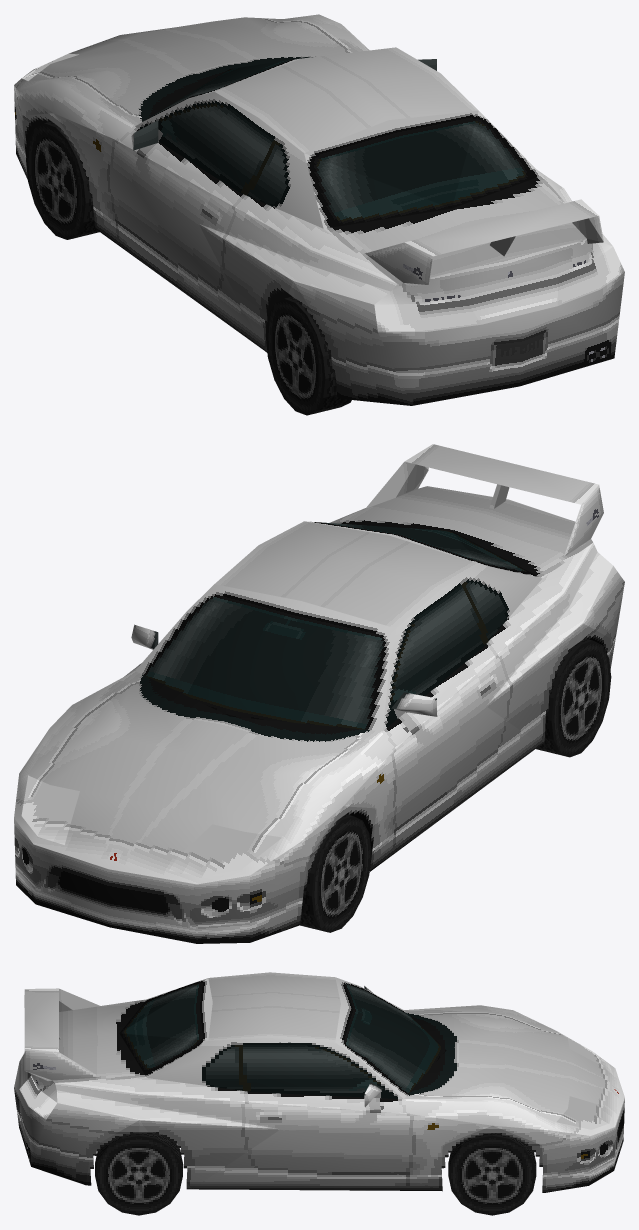
Rendered from GT_SIMULATION__MFTNN.glb.
3 views of the same model, one above another, from view 1: azimuth 30°, elevation 25°; view 2: azimuth 150°, elevation 25°; view 3: azimuth 270°, elevation 25° (orthographic). The views are drawn at different scales.
Visible parts, largest first — view 1: Native body LOD0, Native wheel 2, Native wheel 0; view 2: Native body LOD0, Native wheel 0, Native wheel 2; view 3: Native body LOD0, Native wheel 3, Native wheel 1.
Part boxes in pixels (x1,y1,x2,y2): Native body LOD0: (14, 14, 624, 405); Native wheel 2: (265, 296, 351, 415); Native wheel 0: (26, 121, 99, 239); Native body LOD0: (14, 444, 624, 943); Native wheel 0: (299, 814, 371, 932); Native wheel 2: (536, 638, 611, 757); Native body LOD0: (14, 972, 624, 1192); Native wheel 3: (95, 1132, 182, 1215); Native wheel 1: (448, 1133, 536, 1215).
Bounding box in the file's own units: 1.83 × 1.3 × 4.32.
12 materials, 11 textured.
